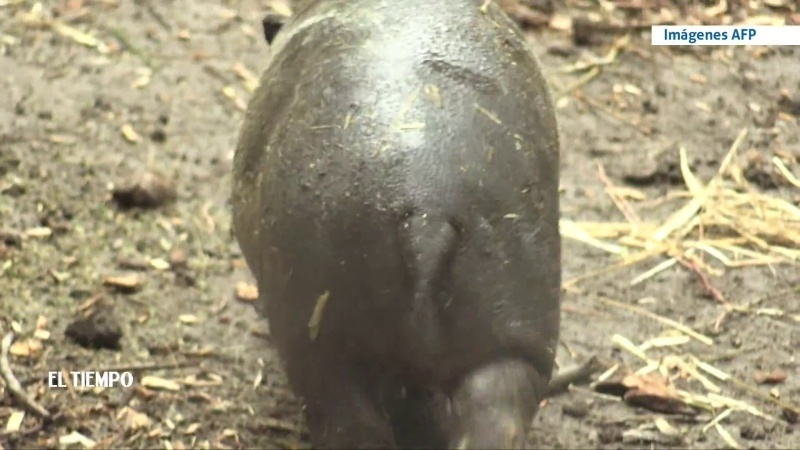hipopotamo: (211, 1, 571, 450)
